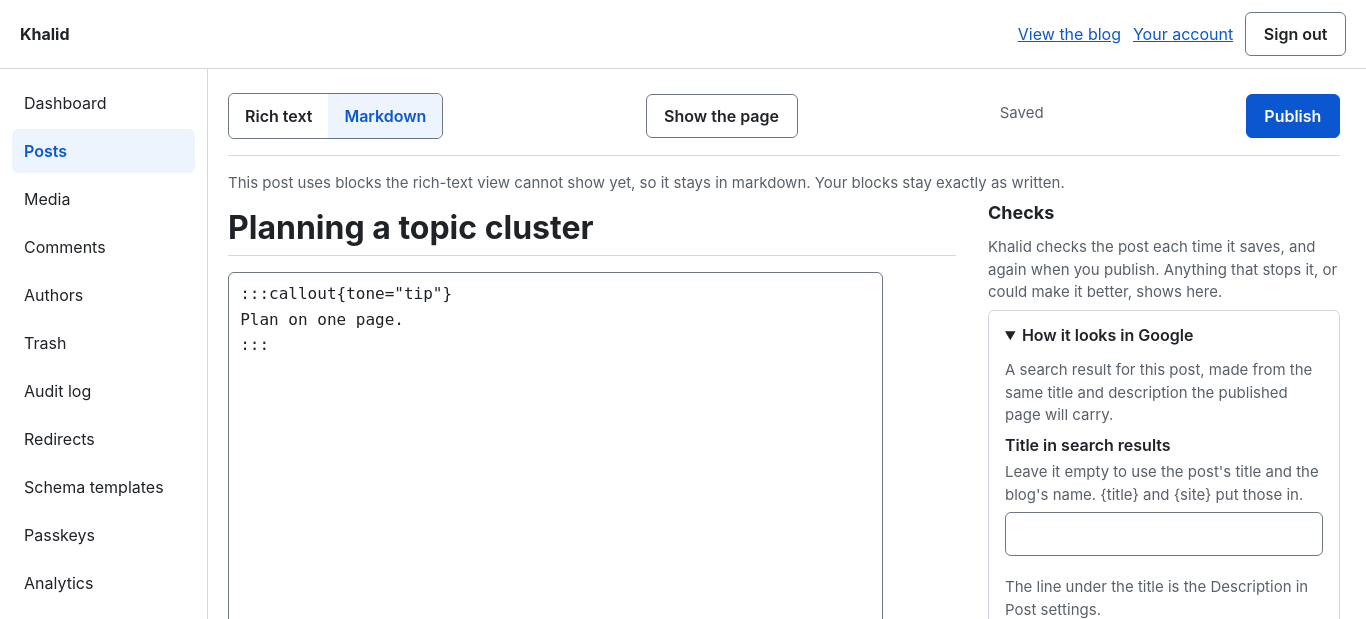
Test: publishing from the editor › explains a publish the blog did not answer
Click the button "Publish" at (1293, 116), box [1246, 94, 1340, 138]
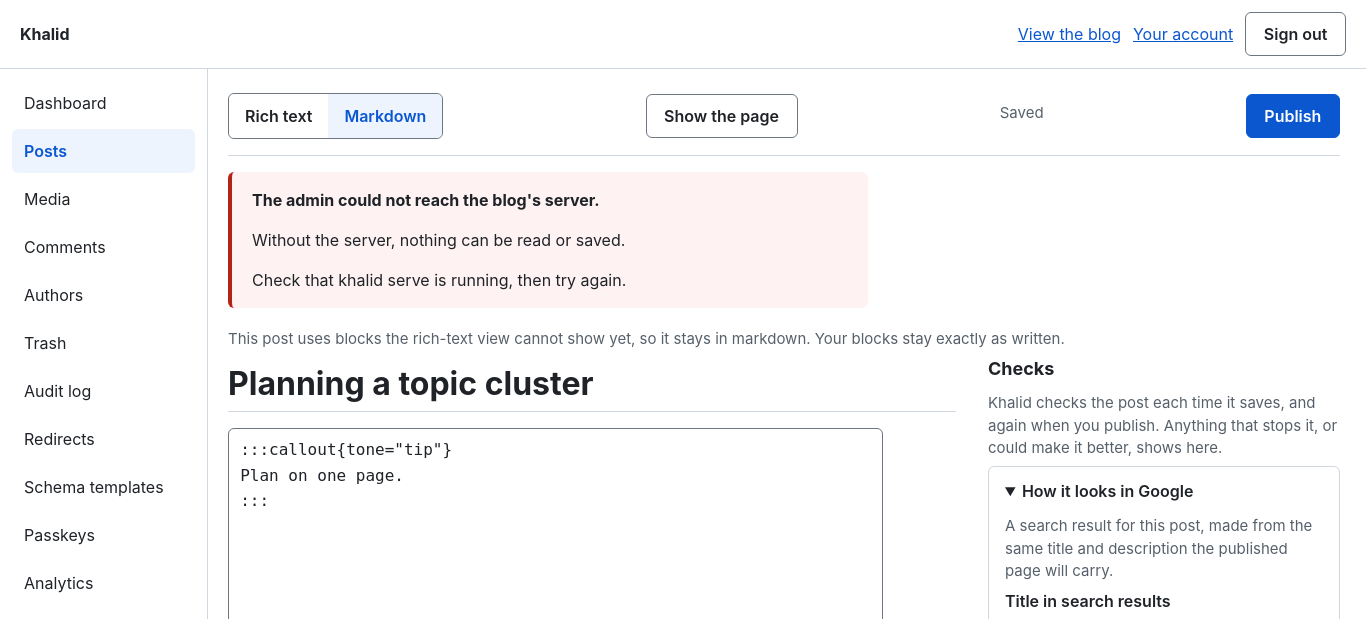
Now the 2nd message shows "The admin could not reach the blog's server.", box [252, 190, 600, 210]
